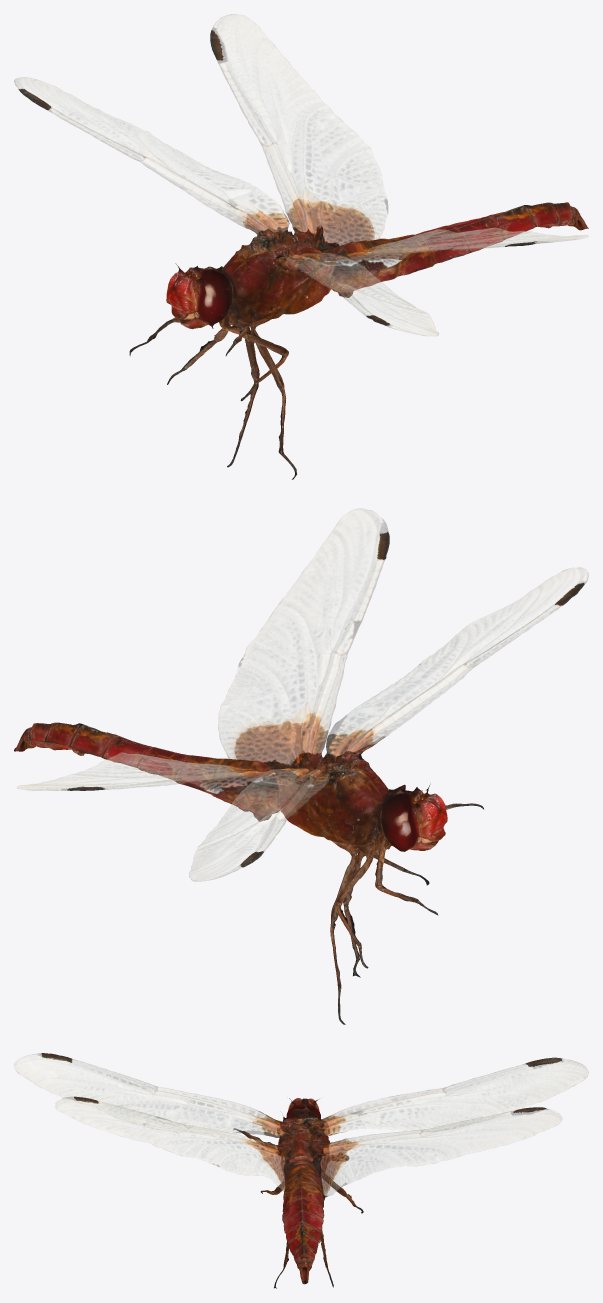
The model's file is crocothemis_servilia.glb.
The picture shows the model from 3 angles, top to bottom: view 1: azimuth 30°, elevation 25°; view 2: azimuth 150°, elevation 25°; view 3: azimuth 270°, elevation 25°; orthographic projection. The views are drawn at different scales.
Parts seen in each view (by area): view 1: hane1_1; view 2: hane1_1; view 3: hane1_1.
Boxes of the visible parts, x1=… form: hane1_1: x1=14, y1=14, x2=588, y2=479; hane1_1: x1=14, y1=508, x2=588, y2=1024; hane1_1: x1=14, y1=1053, x2=588, y2=1288.
Size of the model in its own units: 0.0464 by 0.0331 by 0.0713.
3 materials, 3 textured.
